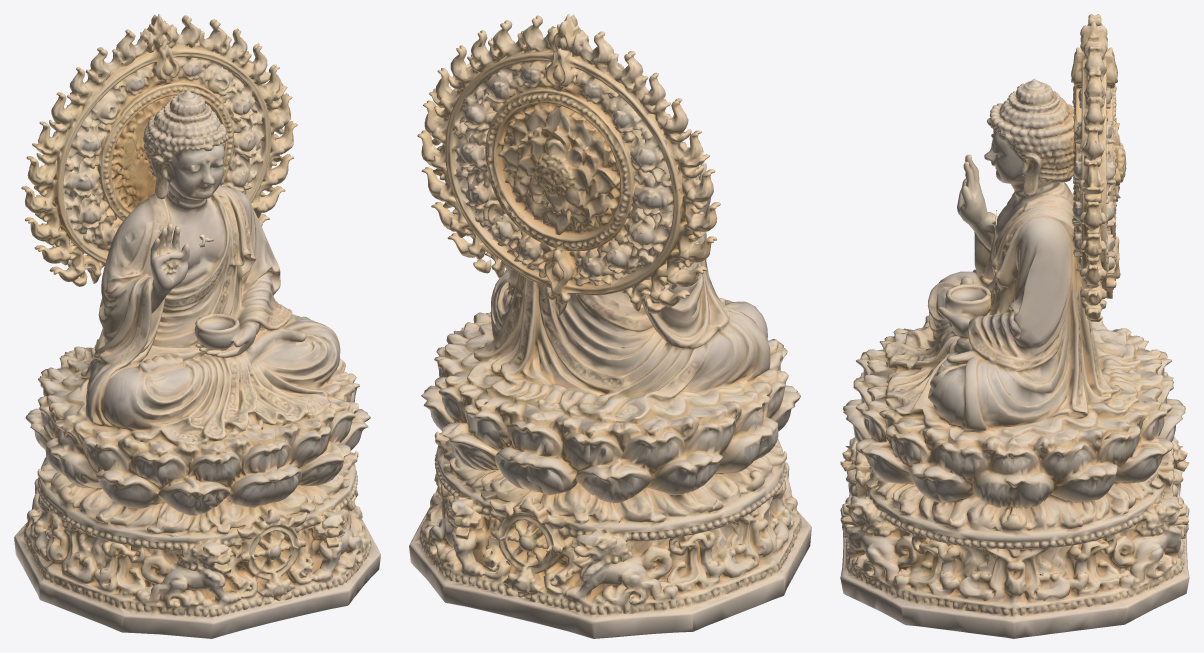
3 views of the same model, side by side, from view 1: azimuth 30°, elevation 25°; view 2: azimuth 150°, elevation 25°; view 3: azimuth 270°, elevation 25° (orthographic). The views are drawn at different scales.
Visible parts, largest first — view 1: four-heavenly-kings-03; view 2: four-heavenly-kings-03; view 3: four-heavenly-kings-03.
Boxes of the visible parts, box(x1,y1,x2,y2) form: four-heavenly-kings-03: box(14, 14, 380, 638); four-heavenly-kings-03: box(409, 14, 811, 638); four-heavenly-kings-03: box(840, 14, 1189, 638).
Size of the model in its own units: 0.6365 by 0.9998 by 0.5878.
1 material, 1 textured.
